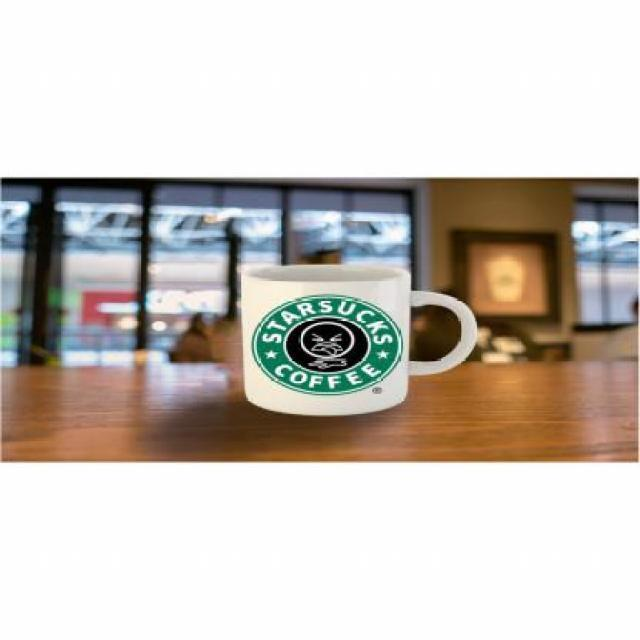taza: (216, 240, 488, 430)
